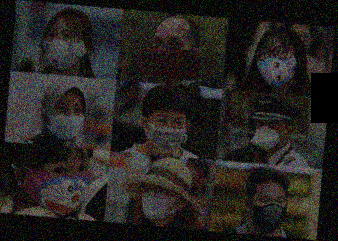with_mask: (25, 148, 90, 215), (254, 41, 296, 87), (148, 35, 190, 81), (43, 25, 82, 68), (247, 189, 286, 230), (136, 181, 177, 220), (144, 110, 185, 148), (48, 98, 84, 139), (253, 118, 285, 148)
